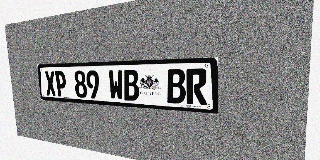8: (74, 70, 87, 98)
9: (86, 70, 100, 99)
B: (166, 69, 186, 104), (123, 70, 140, 101)
P: (54, 71, 67, 97)
R: (186, 68, 207, 105)
W: (108, 70, 124, 100)
X: (44, 71, 56, 96)
